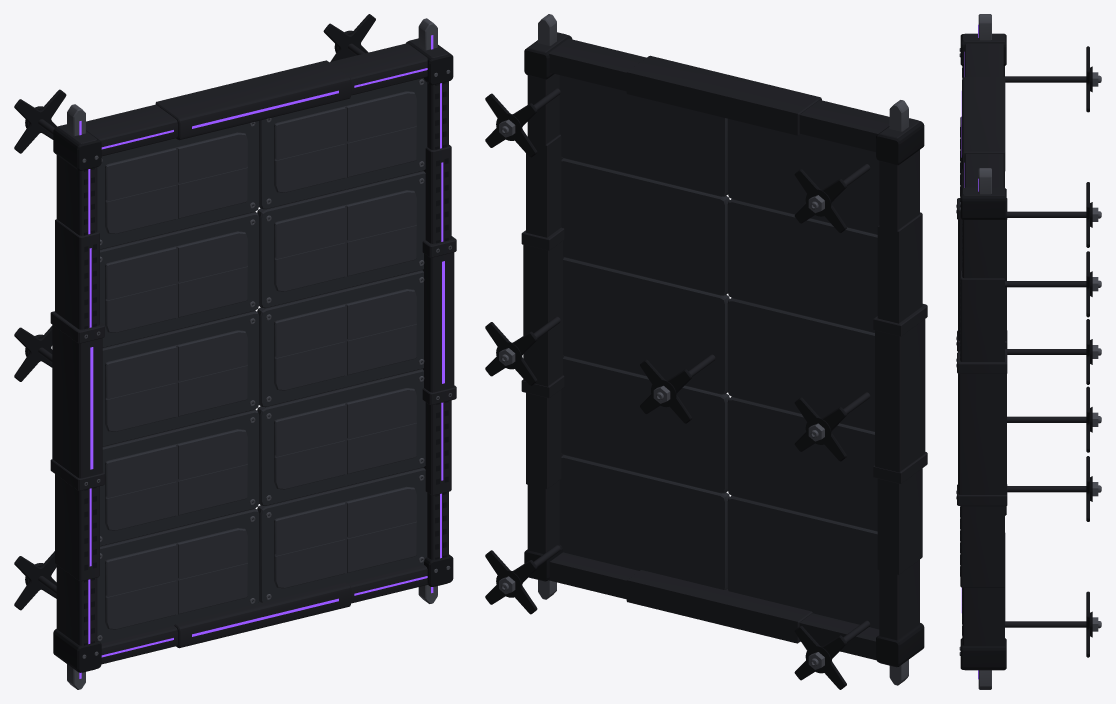
The model's file is wall-fortification-standard-sealed.glb.
The picture shows the model from 3 angles, left to right: view 1: azimuth 30°, elevation 25°; view 2: azimuth 150°, elevation 25°; view 3: azimuth 270°, elevation 25°; orthographic projection. The views are drawn at different scales.
Parts seen in each view (by area): view 1: body_LOD0; view 2: body_LOD0; view 3: body_LOD0.
Boxes of the visible parts, box(x1,y1,x2,y2) form: body_LOD0: box(14, 14, 456, 689); body_LOD0: box(485, 14, 927, 689); body_LOD0: box(956, 14, 1101, 689).
Size of what is drawn, in the model's own units: 1.5 by 2.19 by 0.552.
